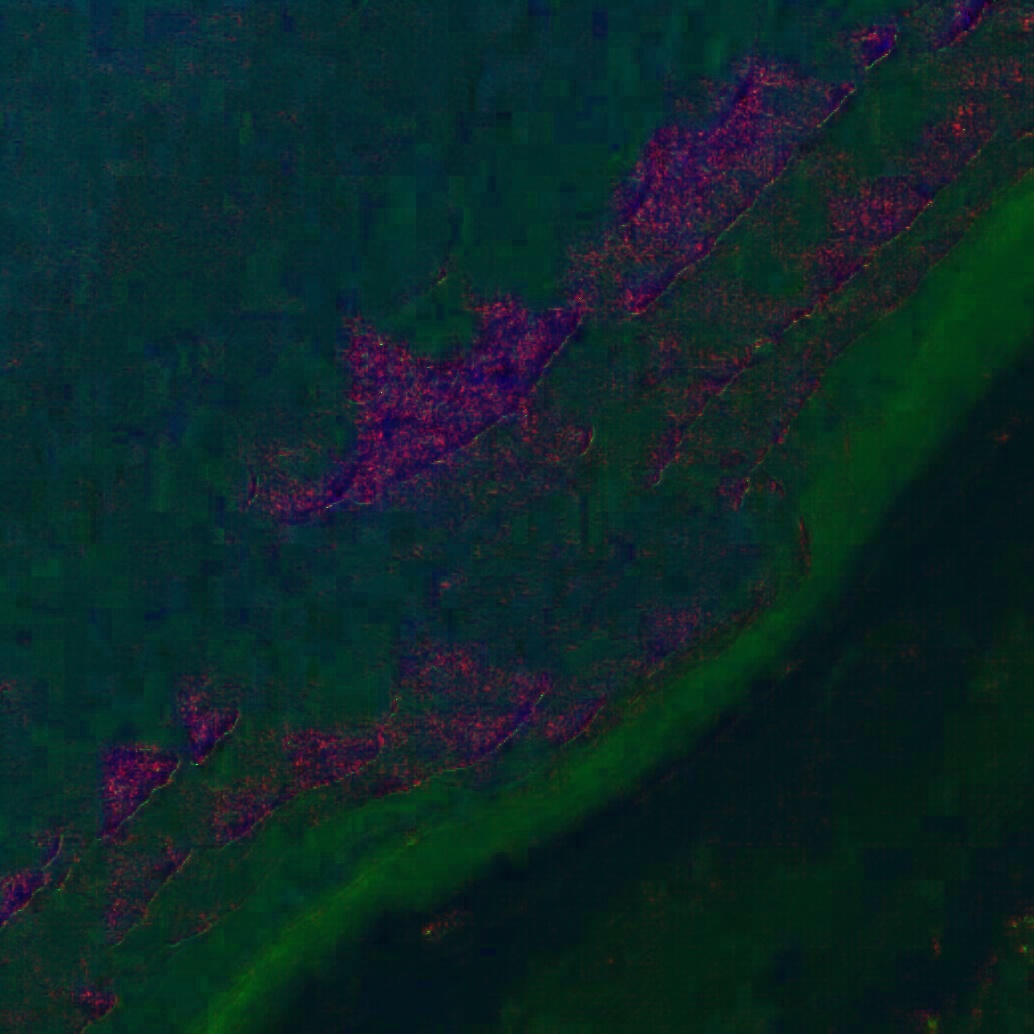rip_current: (59, 442, 793, 707)
